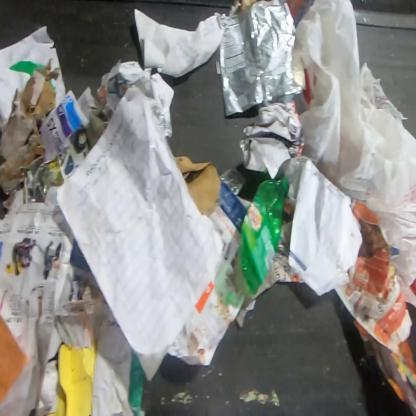cardboard: (0, 57, 61, 193), (174, 155, 221, 216)
rigid_plastic: (235, 173, 290, 295), (207, 168, 249, 256)
soft_plastic: (277, 0, 415, 287), (219, 0, 306, 118)
